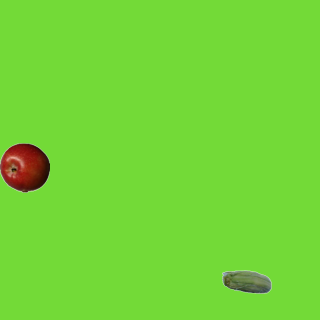Apple Braeburn: (0, 142, 49, 192)
Corn Husk: (221, 258, 271, 308)
